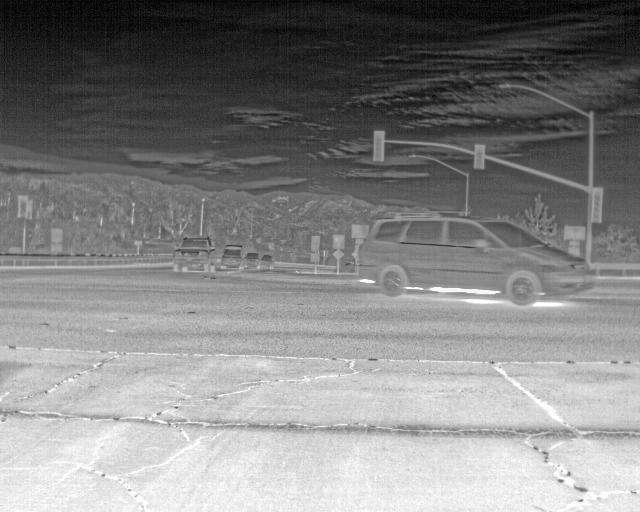car: (354, 214, 594, 303), (171, 236, 215, 276), (221, 244, 243, 268), (244, 252, 262, 271), (260, 253, 277, 271)
